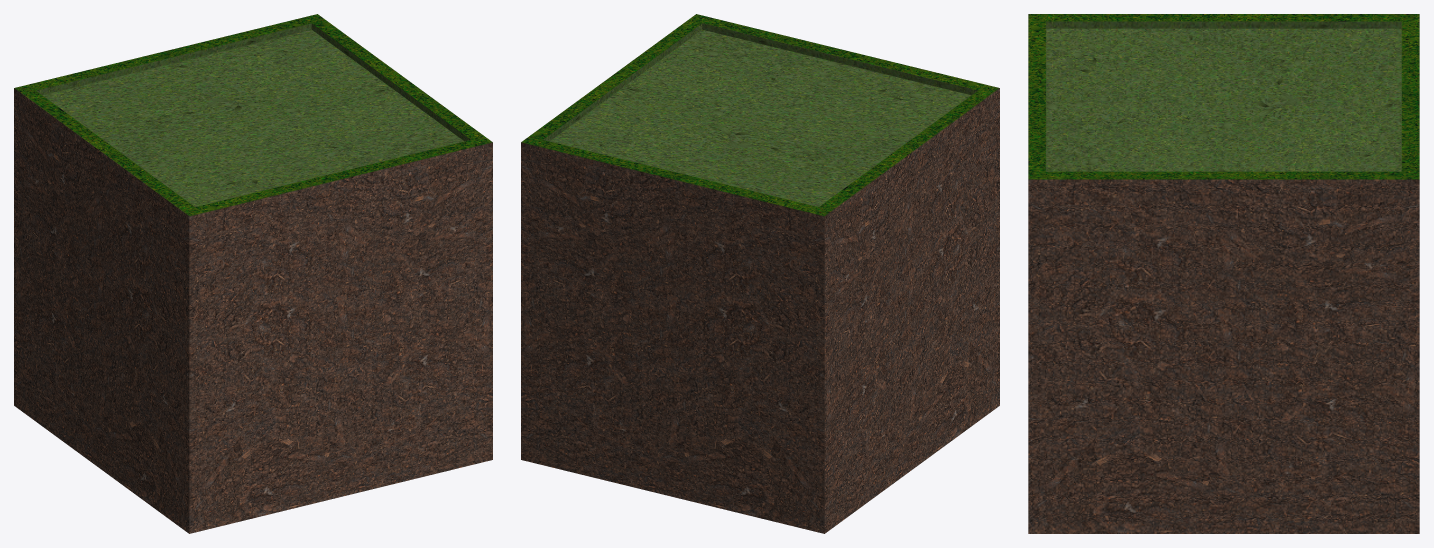
The model's file is GrassTile3.fbx.
3 views of the same model, side by side, from view 1: azimuth 30°, elevation 25°; view 2: azimuth 150°, elevation 25°; view 3: azimuth 270°, elevation 25° (orthographic). The views are drawn at different scales.
Visible parts, largest first — view 1: Cube.005; view 2: Cube.005; view 3: Cube.005.
Boxes of the visible parts, x1,y1,x2,y2 form: Cube.005: (14,14,492,533); Cube.005: (521,14,999,533); Cube.005: (1028,14,1419,533).
Bounding box in the file's own units: 200 × 200 × 200.
Materials: 1 (1 with a texture image).
